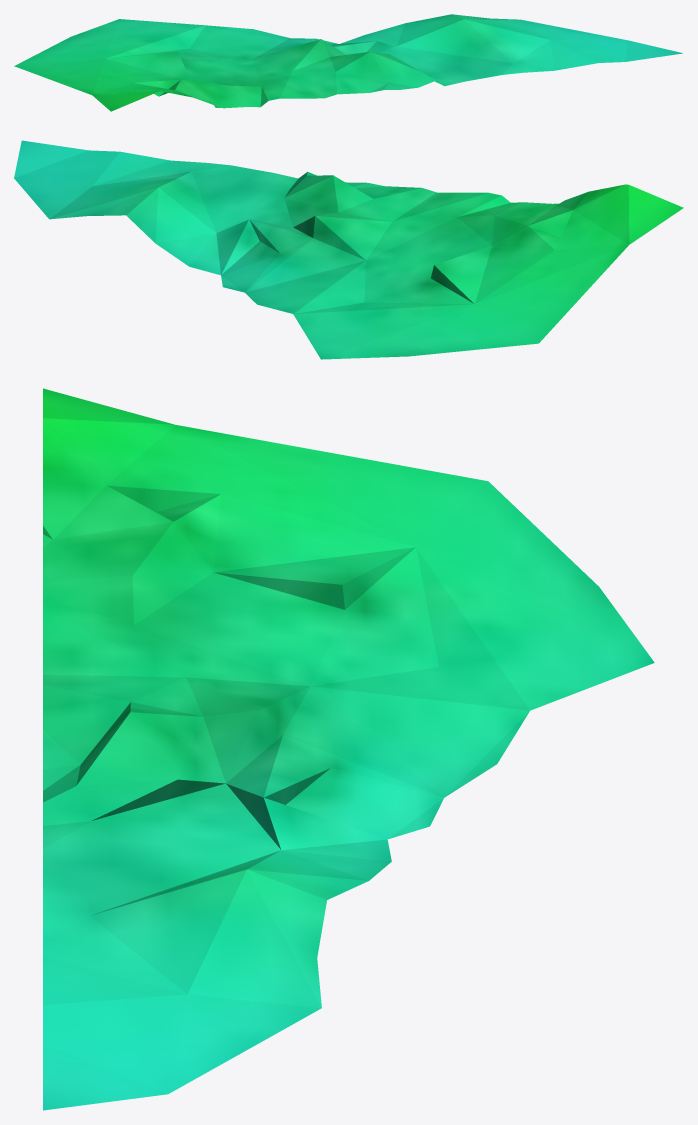
3 views of the same model, one above another, from view 1: azimuth 30°, elevation 25°; view 2: azimuth 150°, elevation 25°; view 3: azimuth 270°, elevation 25° (orthographic). The views are drawn at different scales.
Size of the model in its own units: 12.14 by 1.9 by 5.61.
Materials: 1 (1 with a texture image).
